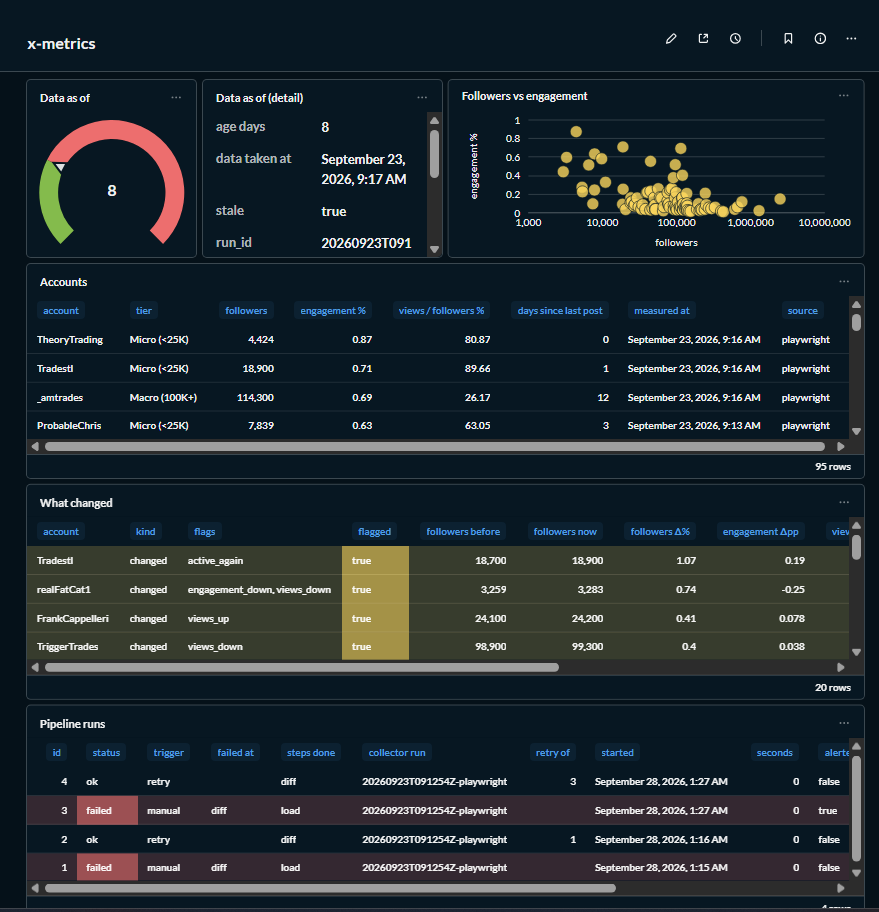

The page's visual inventory and layout, read from the dashboard file:
{"tool":"powerbi","page":{"name":"1 페이지","canvas":[1920,1080],"ordinal":0},"visuals":[{"type":"tableEx","title":"Accounts (latest measurement, 95 accounts)","fields":{"Values":["mart v_latest.display","mart v_latest.tier","Sum(mart v_latest.followers)","Sum(mart v_latest.engagement_rate)","Sum(mart v_latest.views_to_followers)","Sum(mart v_latest.days_since_last_post)"]},"box":[10.2,404.1,1898.1,353.1],"z":0},{"type":"tableEx","title":"What changed (latest run vs each account''s previous measurement)","fields":{"Values":["mart v_changes.display","mart v_changes.kind","mart v_changes.flags","Sum(mart v_changes.followers_prev)","Sum(mart v_changes.followers_now)","Sum(mart v_changes.followers_delta_pct)","Sum(mart v_changes.engagement_delta_pp)","Sum(mart v_changes.views_delta_pct)"]},"box":[10.2,726.6,1898,353],"z":1},{"type":"scatterChart","title":"Followers vs engagement","fields":{"Category":["mart v_latest.display"],"Series":["mart v_latest.tier"],"X":["Sum(mart v_latest.followers)"],"Y":["Sum(mart v_latest.engagement_rate)"]},"box":[442.1,0,1466.3,353.1],"z":2},{"type":"cardVisual","title":"Data as of (days since the latest run; red after 8)","fields":{"Data":["mart v_runs.Age days"]},"box":[10,0,432,353],"z":3}]}

Visuals, with their boxes on the page's 1920x1080 design canvas (x1, y1, x2, y2). These are canvas units, not pixel positions in the 879x912 screenshot, which may show the page scaled, cropped or inside an application window:
"Accounts (latest measurement, 95 accounts)" tableEx: bbox=[10, 404, 1908, 757]
"What changed (latest run vs each account''s previous measurement)" tableEx: bbox=[10, 727, 1908, 1080]
"Followers vs engagement" scatterChart: bbox=[442, 0, 1908, 353]
"Data as of (days since the latest run; red after 8)" cardVisual: bbox=[10, 0, 442, 353]
